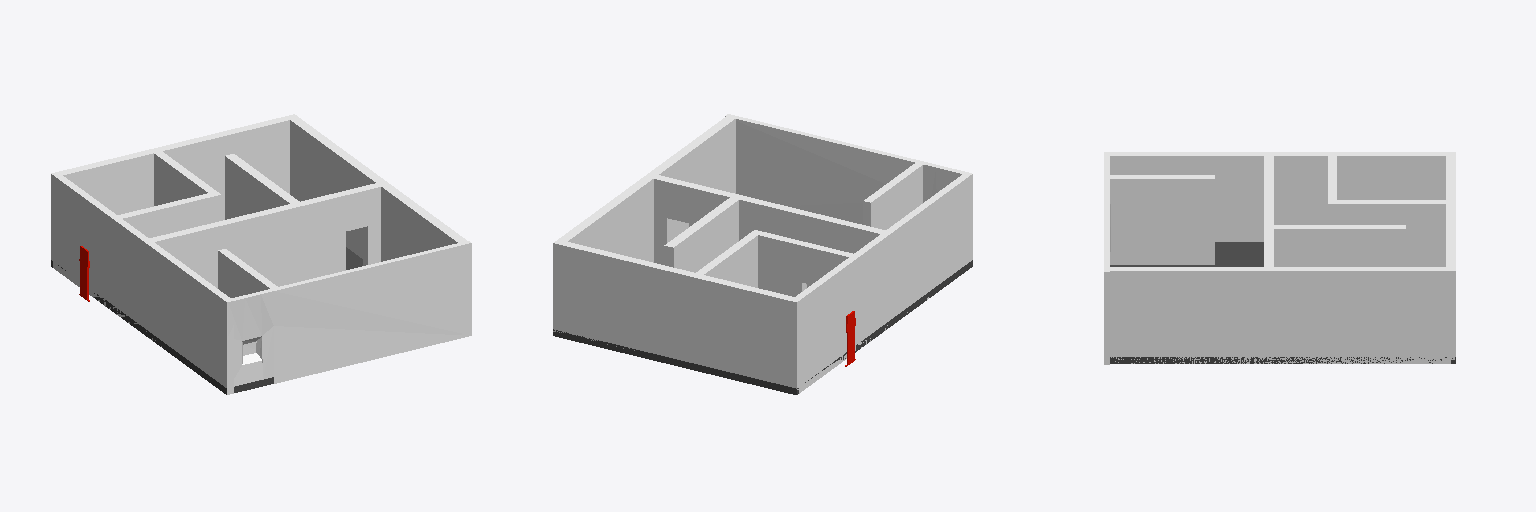
The picture shows the model from 3 angles: view 1: azimuth 30°, elevation 25°; view 2: azimuth 150°, elevation 25°; view 3: azimuth 270°, elevation 25°; orthographic projection.
Parts seen in each view (by area): view 1: group[number redacted], group[number redacted], group[number redacted], group[number redacted], group[number redacted], group[number redacted], group[number redacted], group[number redacted], group[number redacted], group[number redacted]; view 2: group[number redacted], group[number redacted], group[number redacted], group[number redacted], group[number redacted], group[number redacted], group[number redacted], group[number redacted], group[number redacted], group[number redacted]; view 3: group[number redacted], group[number redacted], group[number redacted], group[number redacted], group[number redacted], group[number redacted], group[number redacted], group[number redacted], group[number redacted].
Boxes of the visible parts, box(x1,y1,x2,y2) form: group[number redacted]: box(226, 241, 471, 386); group[number redacted]: box(53, 173, 233, 394); group[number redacted]: box(145, 181, 389, 288); group[number redacted]: box(51, 114, 298, 260); group[number redacted]: box(288, 116, 470, 337); group[number redacted]: box(225, 154, 301, 219); group[number redacted]: box(118, 192, 218, 237); group[number redacted]: box(152, 149, 220, 222); group[number redacted]: box(218, 249, 277, 297); group[number redacted]: box(51, 247, 362, 394); group[number redacted]: box(553, 241, 801, 389); group[number redacted]: box(792, 174, 972, 393); group[number redacted]: box(725, 114, 971, 224); group[number redacted]: box(557, 114, 737, 262); group[number redacted]: box(645, 173, 889, 287); group[number redacted]: box(757, 231, 853, 296); group[number redacted]: box(664, 197, 739, 272); group[number redacted]: box(863, 163, 922, 229); group[number redacted]: box(553, 260, 972, 394); group[number redacted]: box(693, 230, 761, 287); group[number redacted]: box(1104, 267, 1450, 363); group[number redacted]: box(1104, 152, 1451, 241); group[number redacted]: box(1110, 175, 1214, 264); group[number redacted]: box(1270, 225, 1405, 266); group[number redacted]: box(1328, 200, 1451, 266); group[number redacted]: box(1110, 242, 1455, 363); group[number redacted]: box(1446, 152, 1455, 359); group[number redacted]: box(1104, 153, 1110, 364); group[number redacted]: box(1264, 154, 1273, 270).
Size of the model in its own units: 4.69 by 1.63 by 5.6.